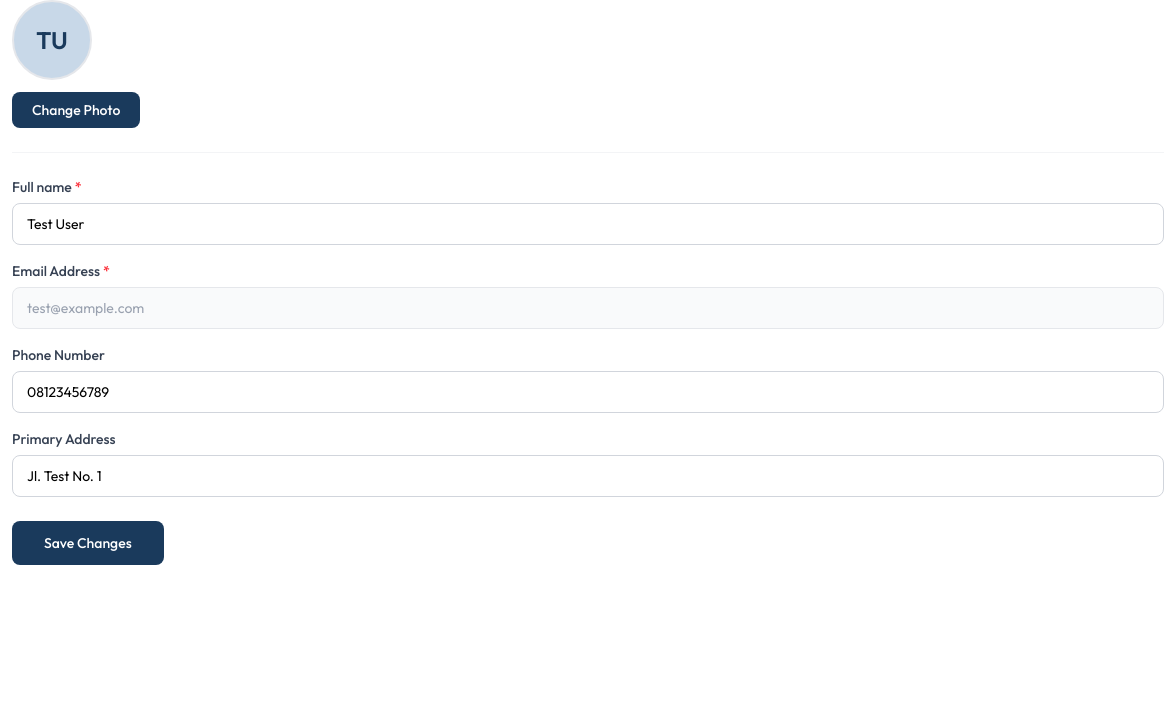
Test case: ProfileForm › berhasil update profil dan tampil pesan sukses
The width and height of the screenshot is (1176, 720).
Replace the text in the field showing "Test User" below "Full name" with "Nama Baru": (588, 224) [12,203,1164,245]
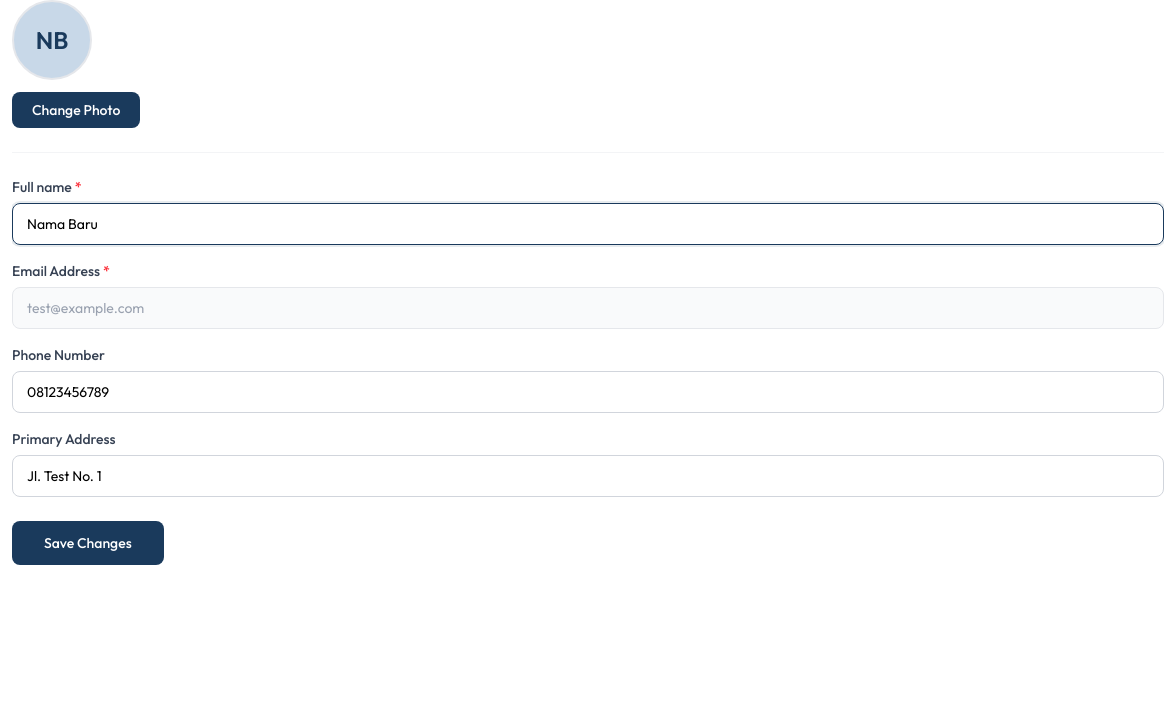
Click the button "Save Changes": (88, 543) [12,521,164,565]
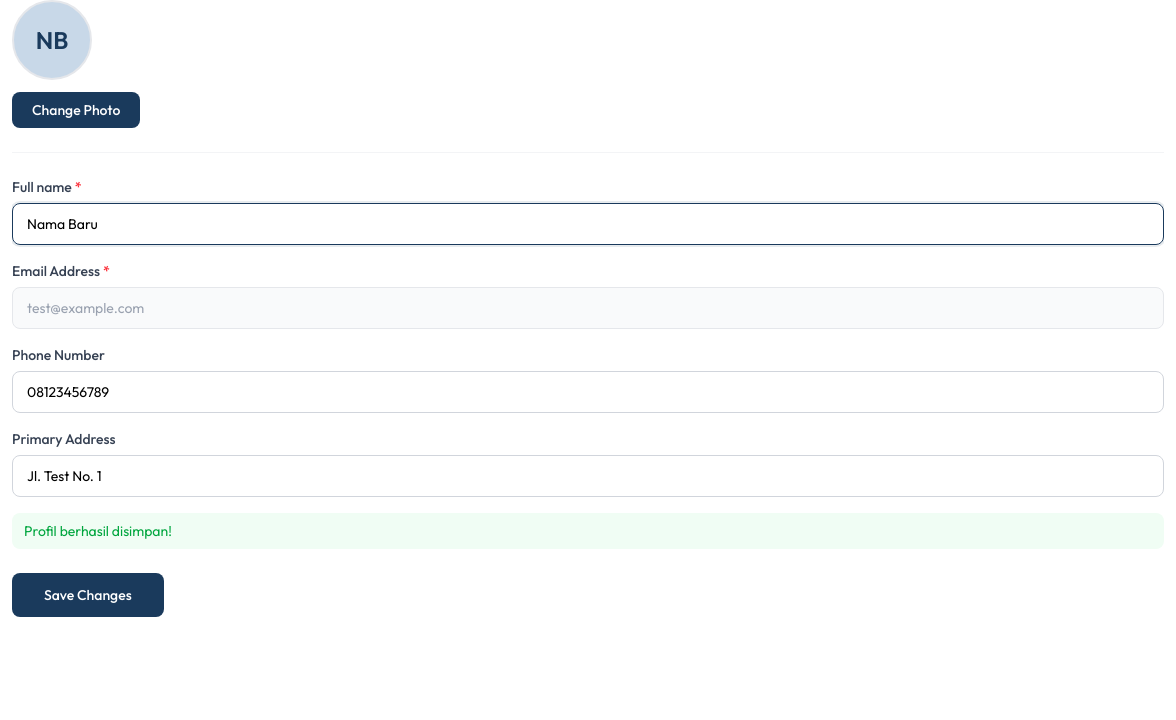
Result: the text "Profil berhasil disimpan!" is shown at [12,513,1164,549]
